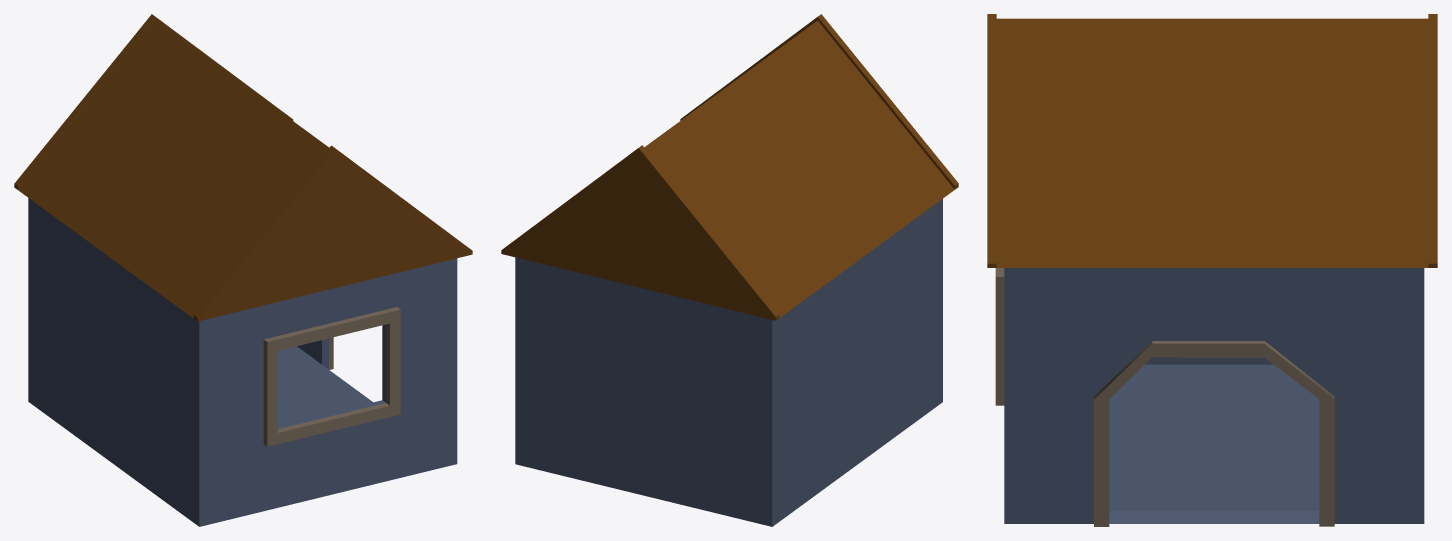
The model's file is house8.fbx.
3 renders of one model, left to right at view 1: azimuth 30°, elevation 25°; view 2: azimuth 150°, elevation 25°; view 3: azimuth 270°, elevation 25°, orthographic. The views are drawn at different scales.
Visible parts, largest first — view 1: polySurface99; view 2: polySurface99; view 3: polySurface99.
Part boxes in pixels (x1=…): polySurface99: x1=14, y1=14, x2=472, y2=526; polySurface99: x1=501, y1=14, x2=958, y2=526; polySurface99: x1=987, y1=14, x2=1437, y2=526.
Bounding box in the file's own units: 403 × 493 × 465.
